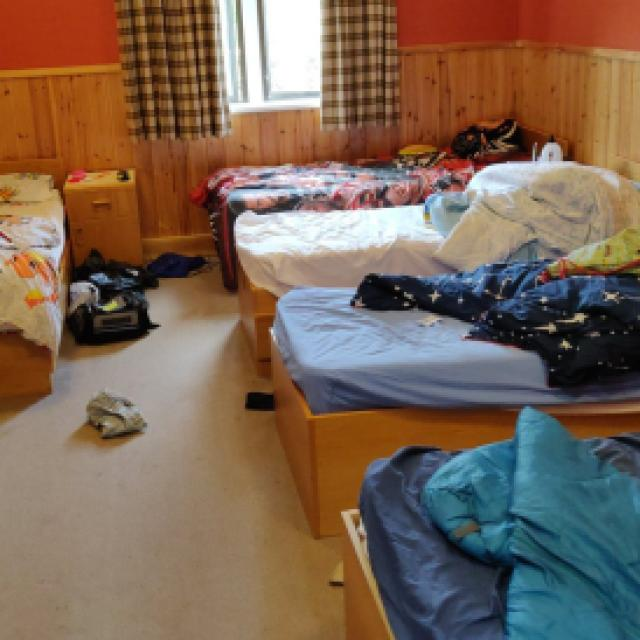scattered-items: (45, 232, 222, 471)
